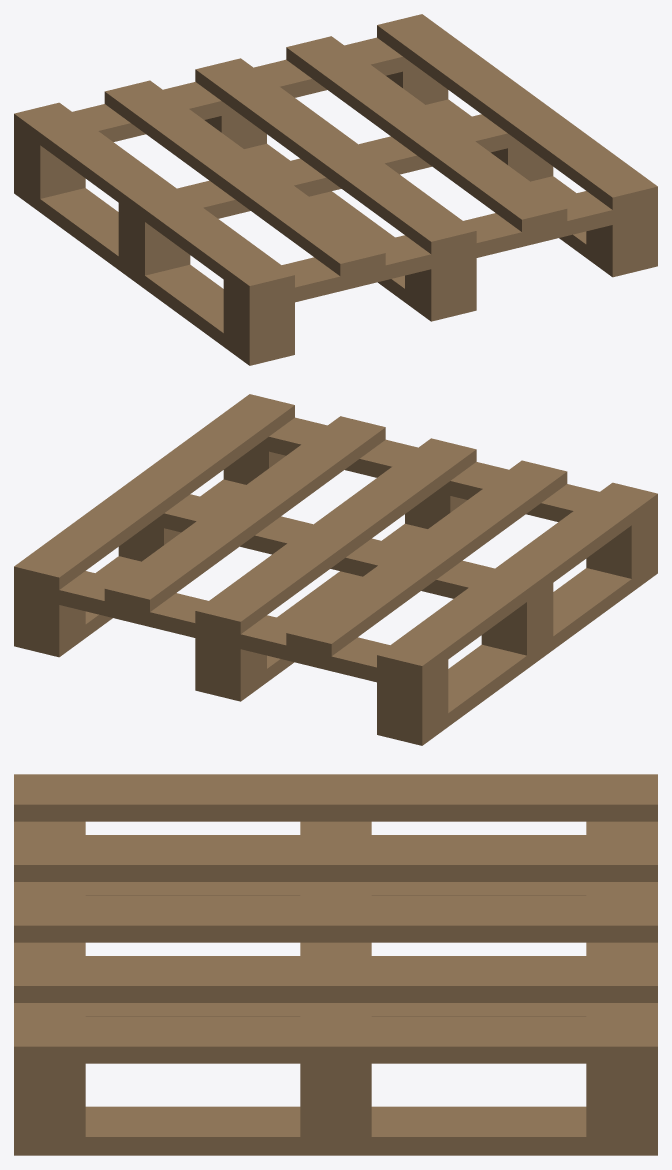
Rendered from S.Pallet.fbx.
The picture shows the model from 3 angles, top to bottom: view 1: azimuth 30°, elevation 25°; view 2: azimuth 150°, elevation 25°; view 3: azimuth 270°, elevation 25°; orthographic projection. The views are drawn at different scales.
Parts seen in each view (by area): view 1: Pallet; view 2: Pallet; view 3: Pallet.
Part boxes in pixels (x1,y1,x2,y2): Pallet: [14, 14, 657, 365]; Pallet: [14, 394, 657, 745]; Pallet: [14, 774, 657, 1155].
Size of the model in its own units: 346 by 64.65 by 346.
